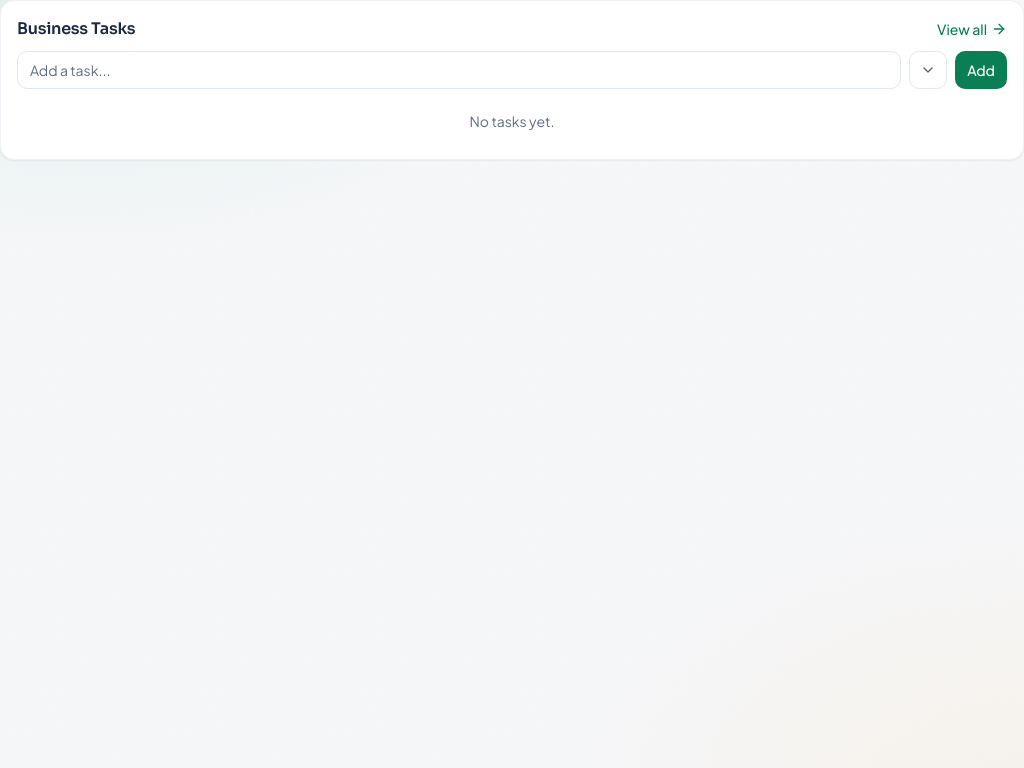
Test case: BusinessTasks and the calendar › keeps the dashboard box small: the date, time and reminder options open on request
This screenshot has width=1024, height=768.
expect the text "No tasks yet." is shown: met, box [470,112,554,130]
Click the button named "Date, time and reminder options".
click(928, 70)  # box [909,51,947,89]
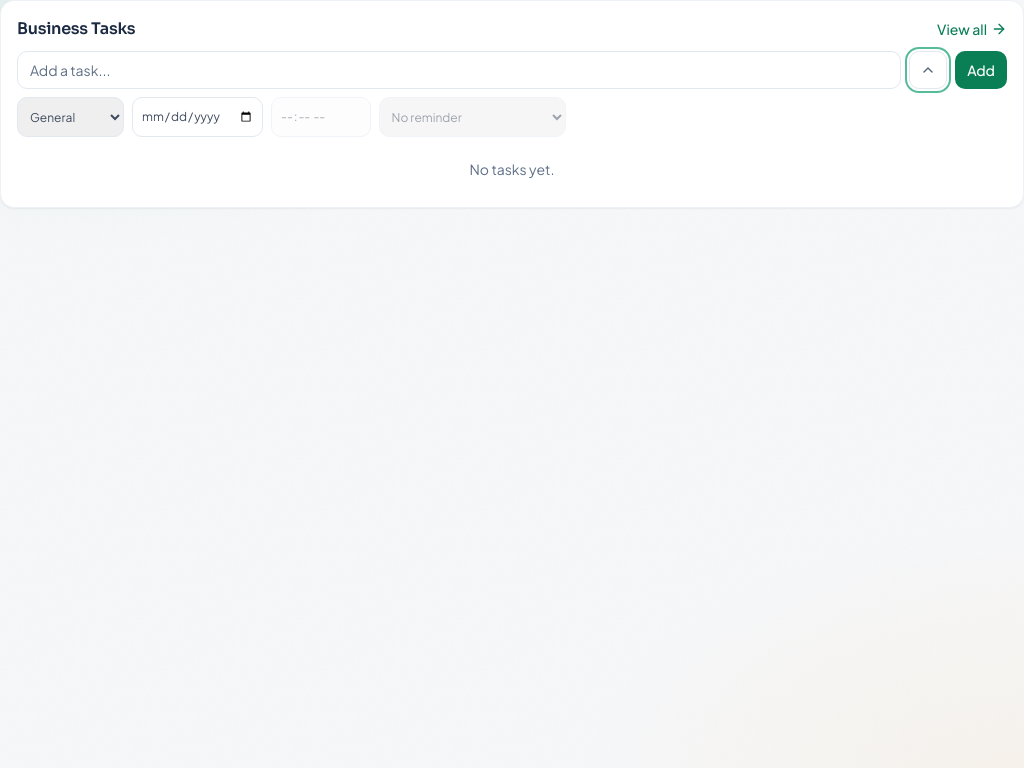
expect the date field named "Due date" is shown: met, box [132,97,263,137]
expect the dropdown named "Reminder" is shown: met, box [379,97,566,137]
